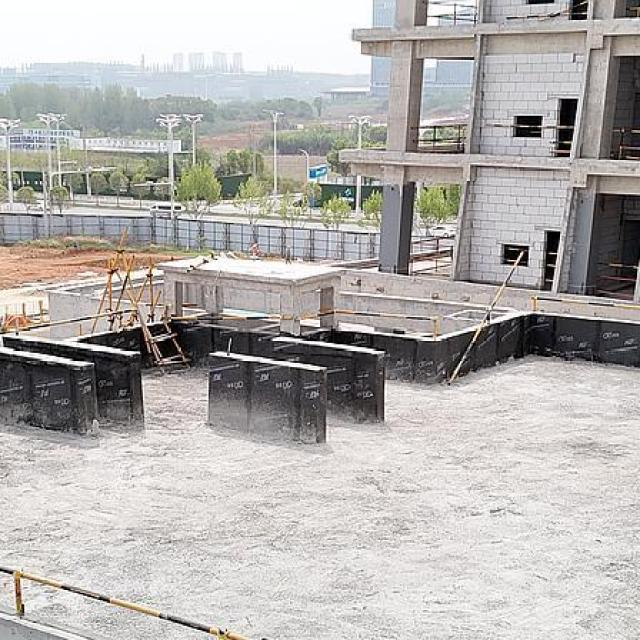edge_guardrail: (0, 564, 264, 639), (446, 250, 524, 387), (0, 310, 123, 337), (335, 309, 438, 341), (486, 123, 574, 154), (504, 0, 589, 24), (530, 295, 640, 312), (594, 261, 639, 298), (409, 233, 455, 268), (410, 123, 467, 151), (426, 1, 478, 26), (611, 128, 640, 161), (169, 315, 294, 321), (294, 310, 336, 321), (503, 247, 528, 264), (545, 252, 558, 282), (625, 5, 640, 18)
